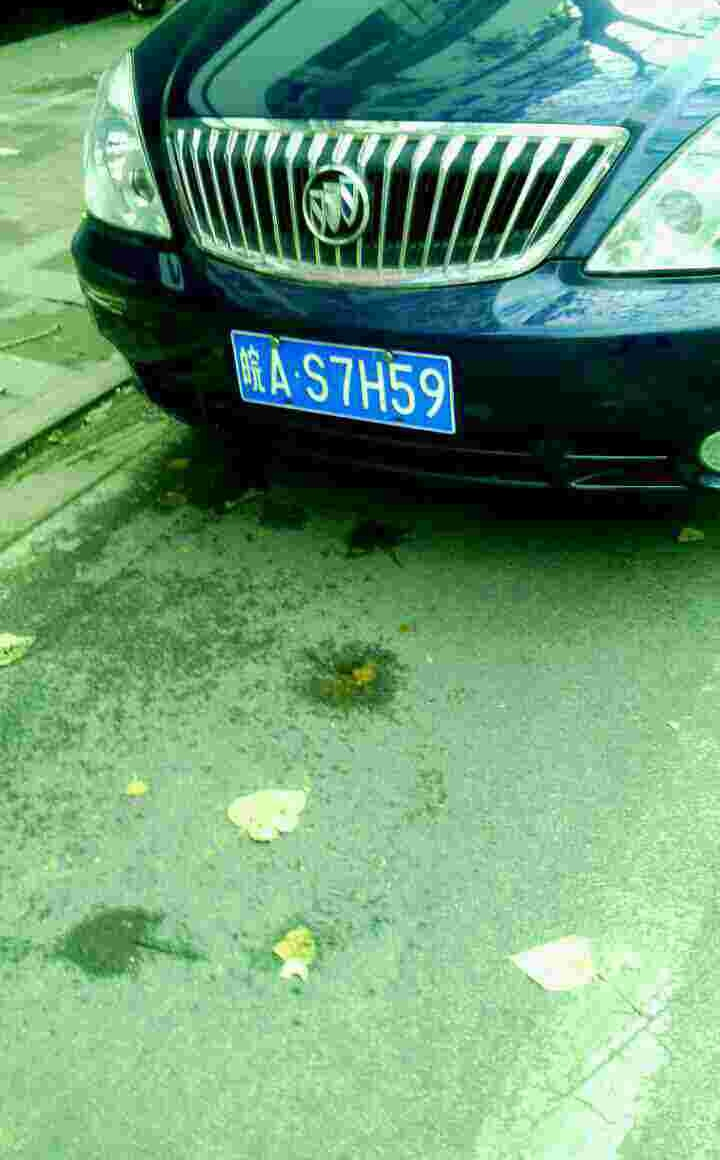plate: (226, 324, 461, 437)
